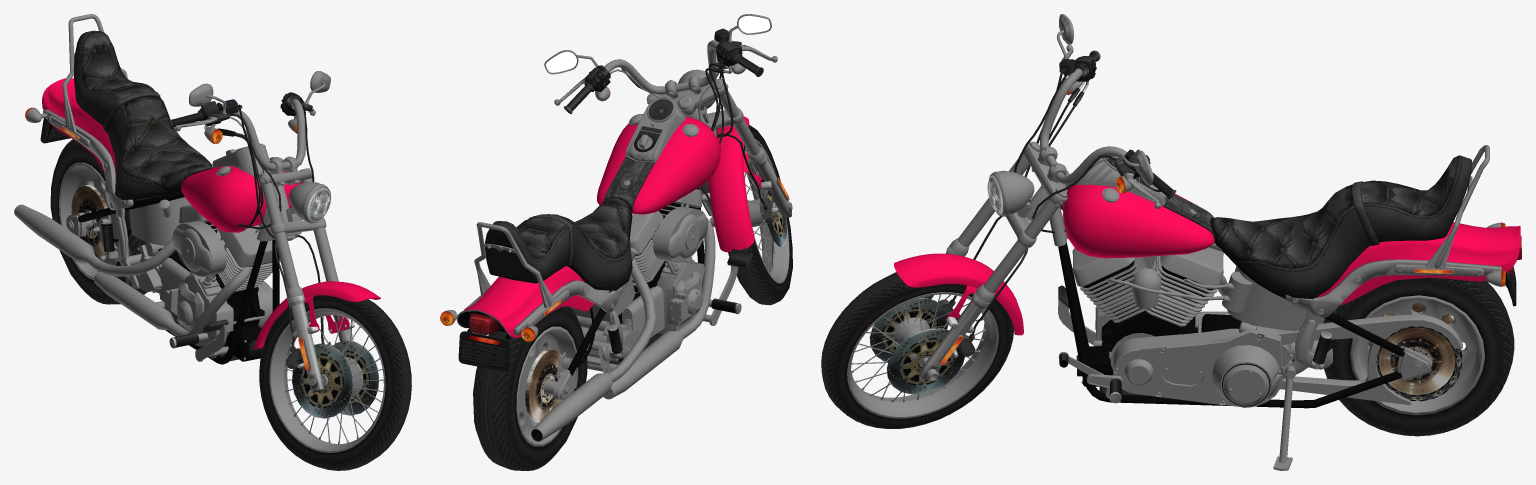
Rendered from motorcycle.glb.
3 renders of one model, left to right at view 1: azimuth 30°, elevation 25°; view 2: azimuth 150°, elevation 25°; view 3: azimuth 270°, elevation 25°, orthographic. The views are drawn at different scales.
Visible parts, largest first — view 1: Object_9, Object_12, Object_17, Object_6, Object_7, Object_3, Object_14, Object_15, Object_16, Object_5, Object_10, Object_11; view 2: Object_9, Object_6, Object_17, Object_12, Object_14, Object_15, Object_7, Object_16, Object_2, Object_3, Object_11, Object_4 (+3 smaller); view 3: Object_9, Object_17, Object_6, Object_12, Object_7, Object_3, Object_15, Object_14, Object_5, Object_4, Object_16.
Part boxes in pixels (box(x1,y1,x2,y2)): Object_9: box(14, 14, 385, 452); Object_12: box(73, 30, 212, 199); Object_17: box(50, 139, 411, 470); Object_6: box(42, 78, 380, 349); Object_7: box(71, 185, 379, 418); Object_3: box(47, 123, 279, 364); Object_14: box(40, 92, 332, 368); Object_15: box(102, 102, 314, 347); Object_16: box(287, 295, 354, 392); Object_5: box(113, 199, 264, 326); Object_10: box(307, 187, 330, 221); Object_11: box(25, 107, 309, 370); Object_9: box(445, 14, 792, 446); Object_6: box(462, 114, 762, 337); Object_17: box(473, 124, 792, 470); Object_12: box(485, 198, 632, 290); Object_14: box(458, 28, 777, 371); Object_15: box(564, 41, 763, 353); Object_7: box(525, 189, 786, 422); Object_16: box(656, 109, 791, 219); Object_2: box(546, 15, 770, 72); Object_3: box(467, 187, 704, 390); Object_11: box(440, 69, 789, 344); Object_4: box(458, 203, 697, 441); Object_9: box(847, 14, 1520, 470); Object_17: box(821, 272, 1514, 436); Object_6: box(894, 184, 1520, 335); Object_12: box(1211, 155, 1471, 298); Object_7: box(869, 297, 1455, 394); Object_3: box(1058, 242, 1511, 408); Object_15: box(1014, 50, 1461, 401); Object_14: box(920, 56, 1516, 403); Object_5: box(1101, 296, 1317, 352); Object_4: box(1083, 260, 1270, 406); Object_16: box(918, 162, 1113, 380).
Size of what is drawn, in the model's own units: 0.9382 by 1.59 by 2.66.
Materials: 16 (9 with a texture image).
